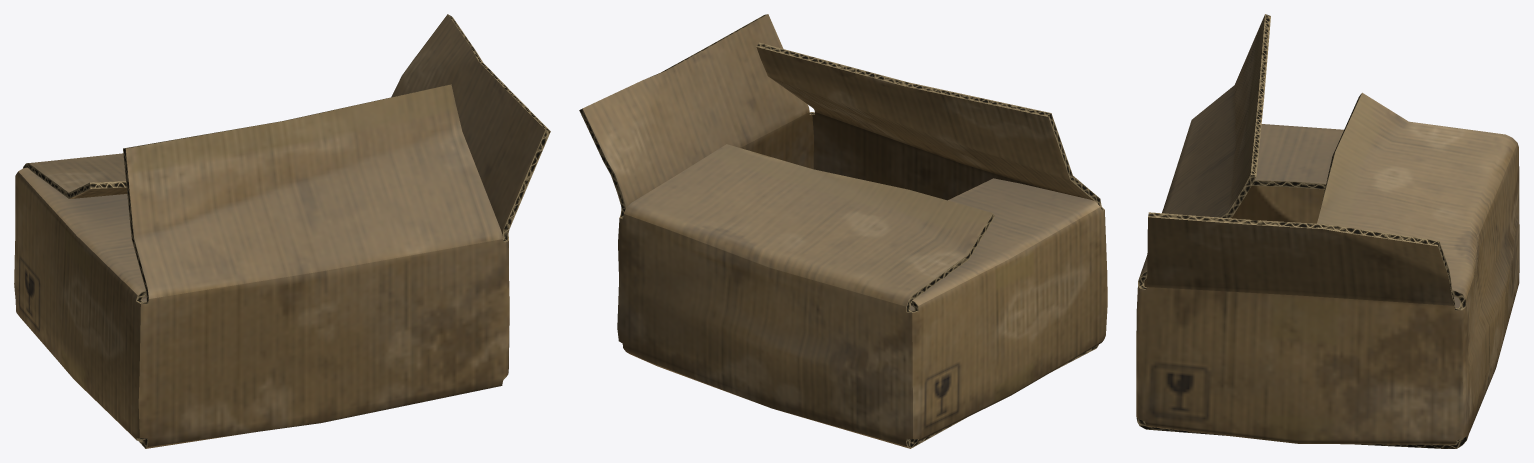
The picture shows the model from 3 angles, left to right: view 1: azimuth 30°, elevation 25°; view 2: azimuth 150°, elevation 25°; view 3: azimuth 270°, elevation 25°; orthographic projection. The views are drawn at different scales.
Parts seen in each view (by area): view 1: BoxD; view 2: BoxD; view 3: BoxD.
Part boxes in pixels (box(x1,y1,x2,y2)): BoxD: box(14, 14, 550, 448); BoxD: box(579, 14, 1107, 448); BoxD: box(1136, 14, 1519, 448).
Size of the model in its own units: 0.3955 by 0.2392 by 0.3049.
Materials: 2 (2 with a texture image).
